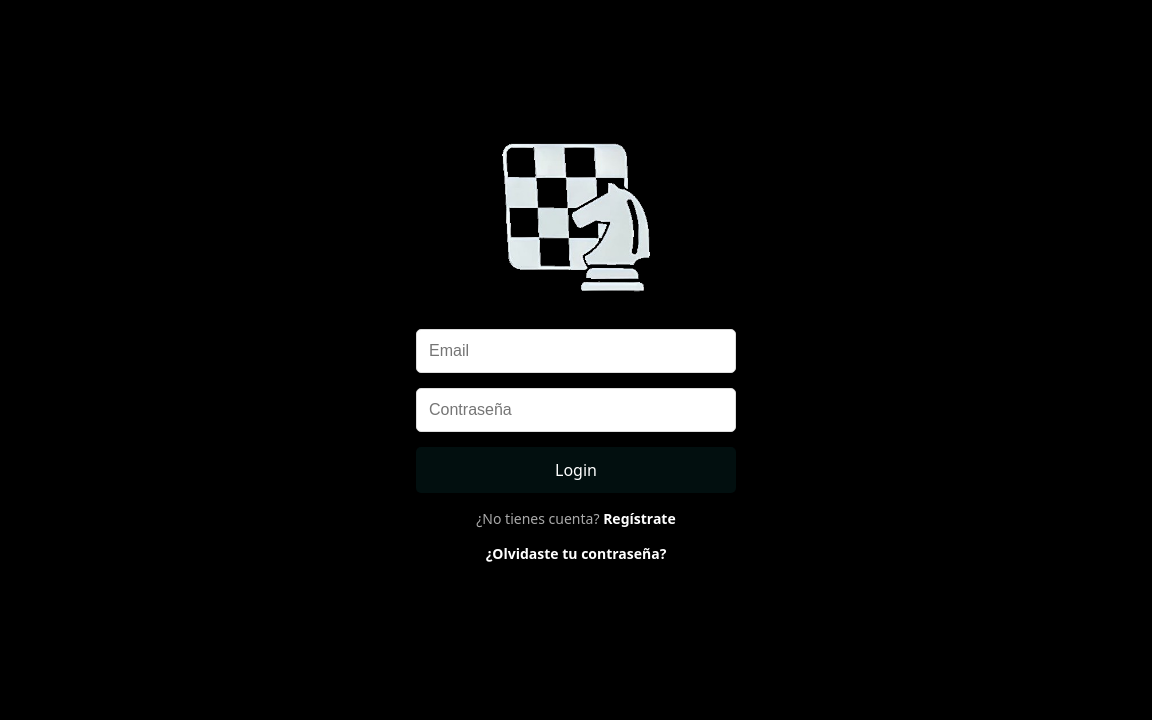
login_with_error_if_email_not_verified
Step 1. Type "i@i.com" into the field with placeholder "Email" → point(576, 351), box x1=416 y1=329 x2=736 y2=373
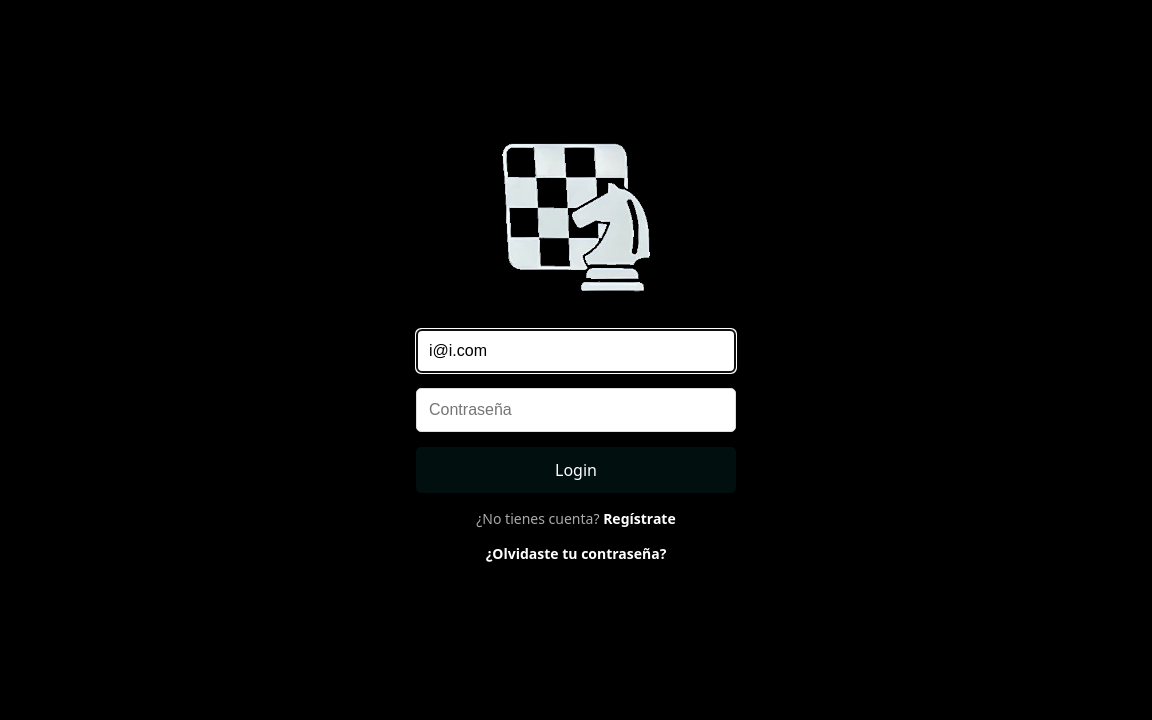
Step 2. Type "cont" into the password field with placeholder "Contraseña" → point(576, 410), box x1=416 y1=388 x2=736 y2=432
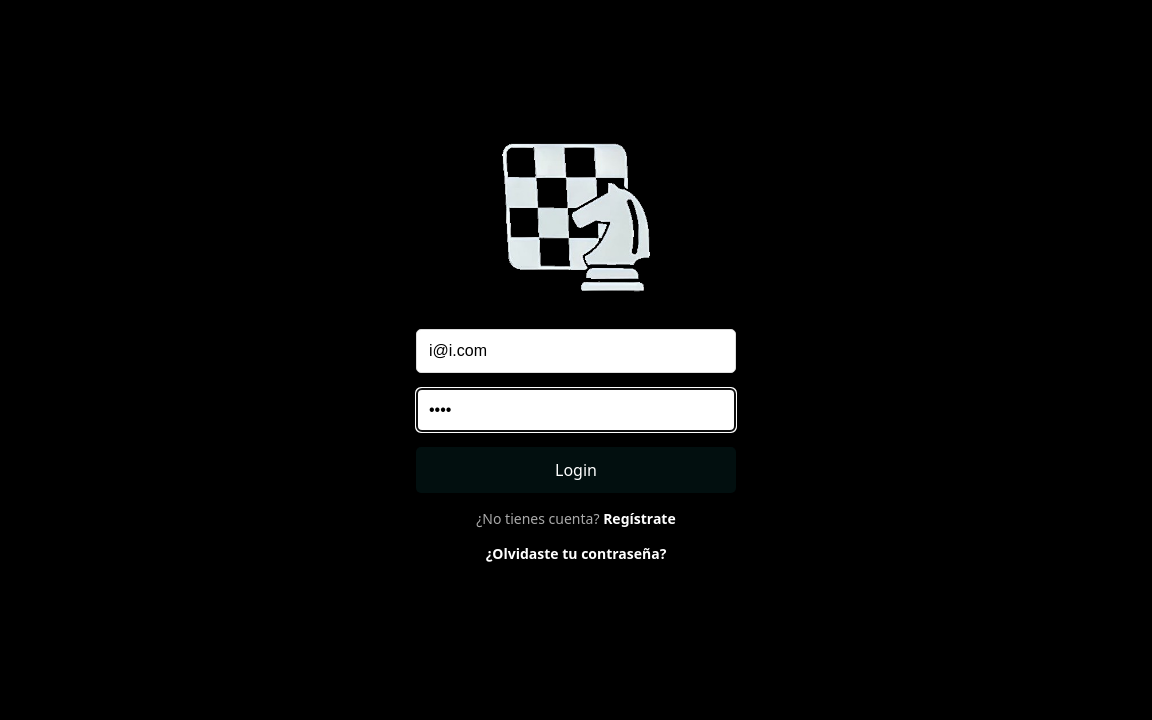
Step 3. Click the button "Login" → point(576, 470), box x1=416 y1=447 x2=736 y2=493
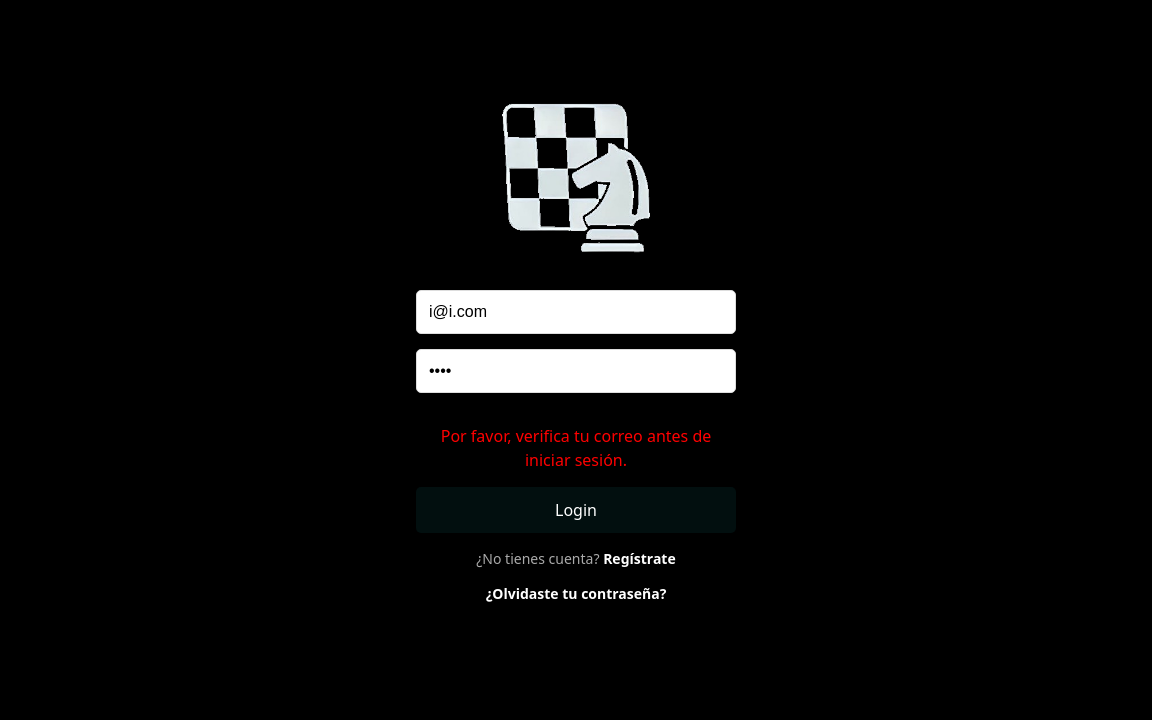
expect the text "Por favor, verifica tu correo antes de iniciar sesión." is shown: met, box x1=441 y1=425 x2=711 y2=471
